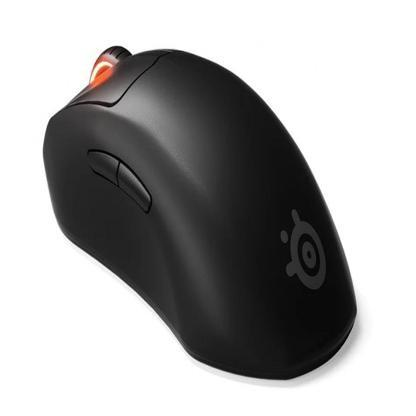not trash: (43, 43, 357, 377)
